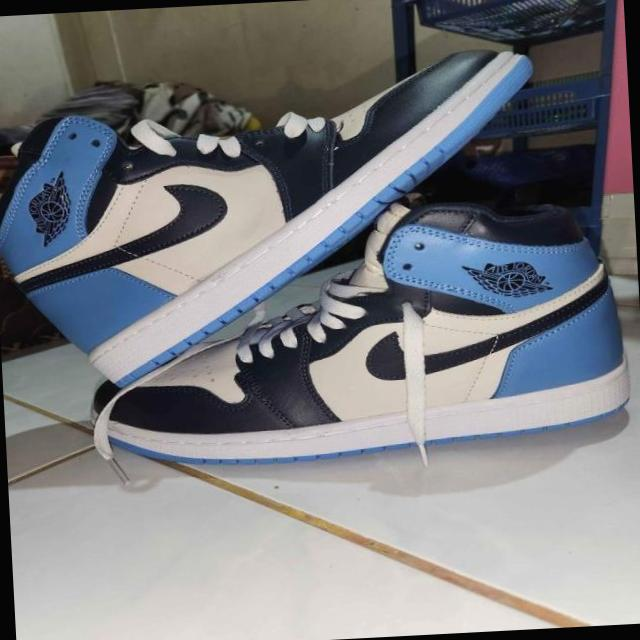nike_fake_jordan: (0, 40, 578, 390), (73, 190, 634, 468)
